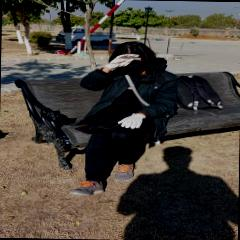gloved: (105, 54, 141, 72), (118, 114, 144, 128)
